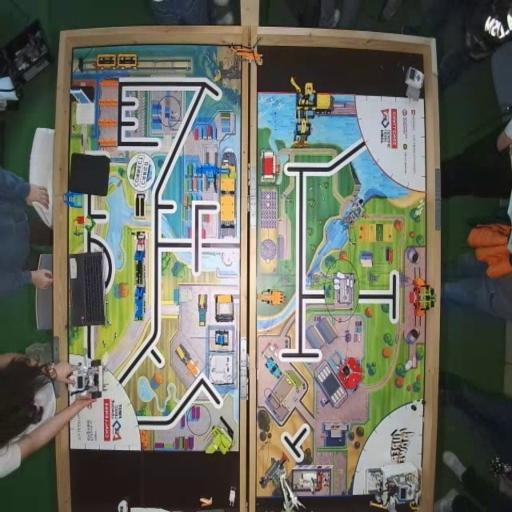lego_robot: (365, 462, 421, 512), (68, 359, 103, 399)
